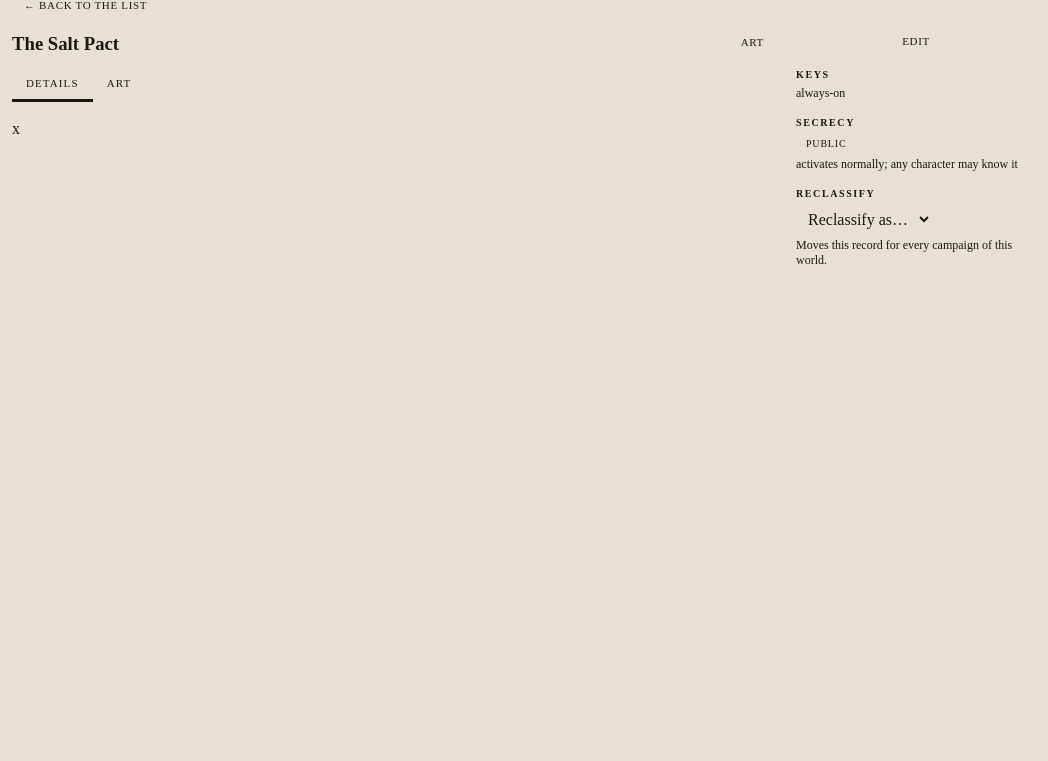
it: selecting from the route › ...and Cancel is still the control that discards it
This screenshot has width=1048, height=761.
Expected: the heading "The Salt Pact" is shown, [12,33,119,55]
Click the button "Edit" at [916, 41], box [796,29,1036,53]
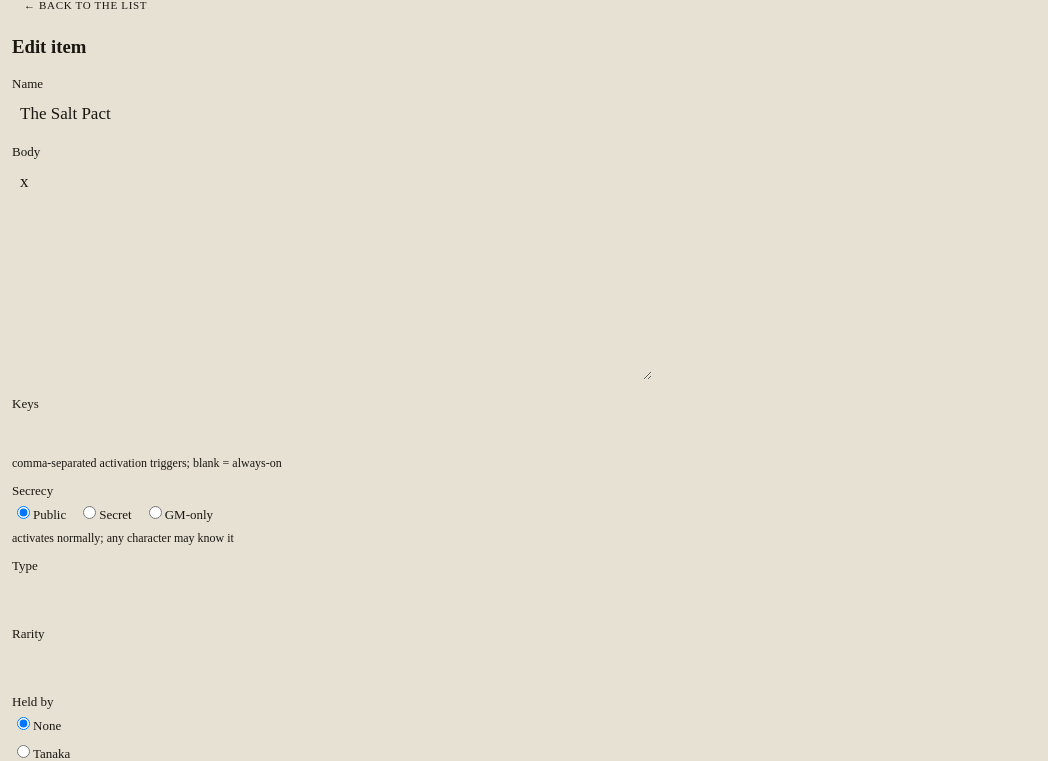
Replace the text in the field labelled "Name" with "Half written" at [332, 114], box [12,96,652,132]
(page scrolled)
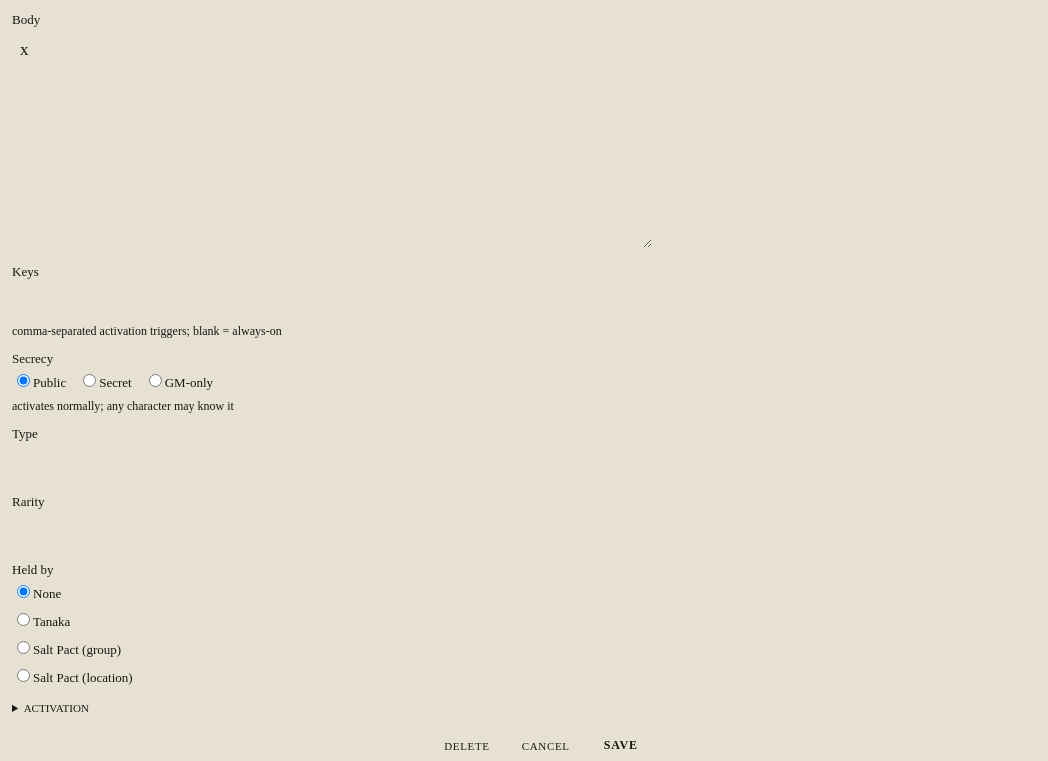
Click the button "Cancel" at [546, 746], box [510,730,582,760]
(page scrolled)
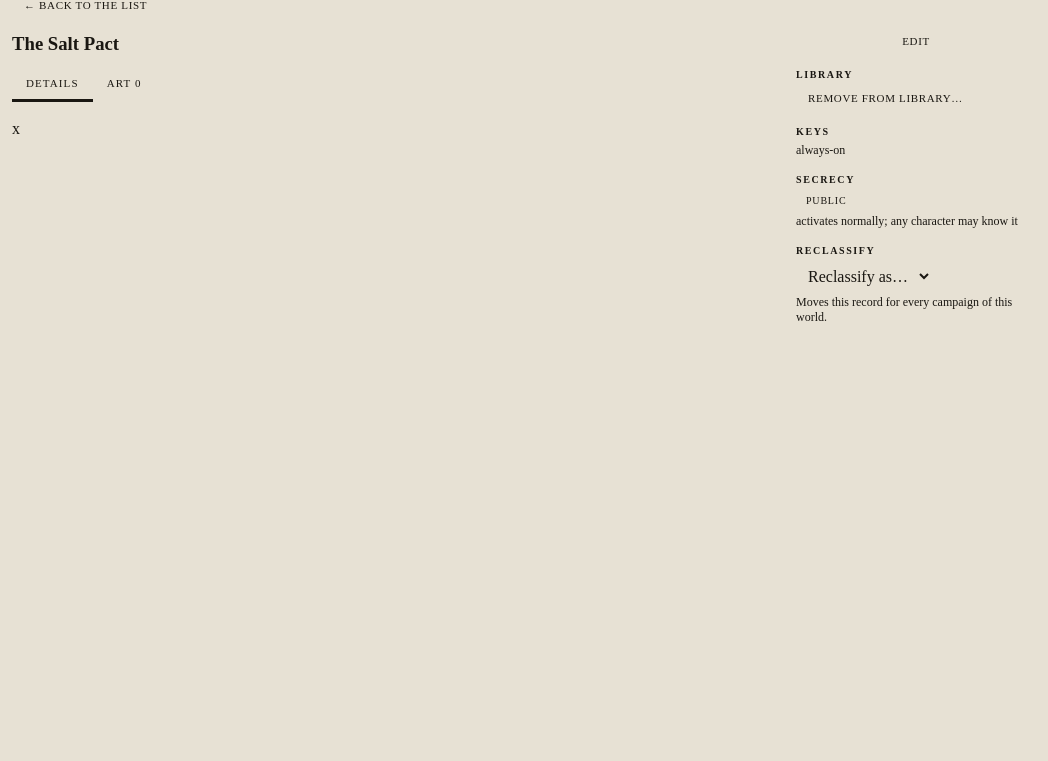
Expected: the field showing "Half written" is not shown
Expected: the heading "The Salt Pact" is shown, [12,33,119,55]
